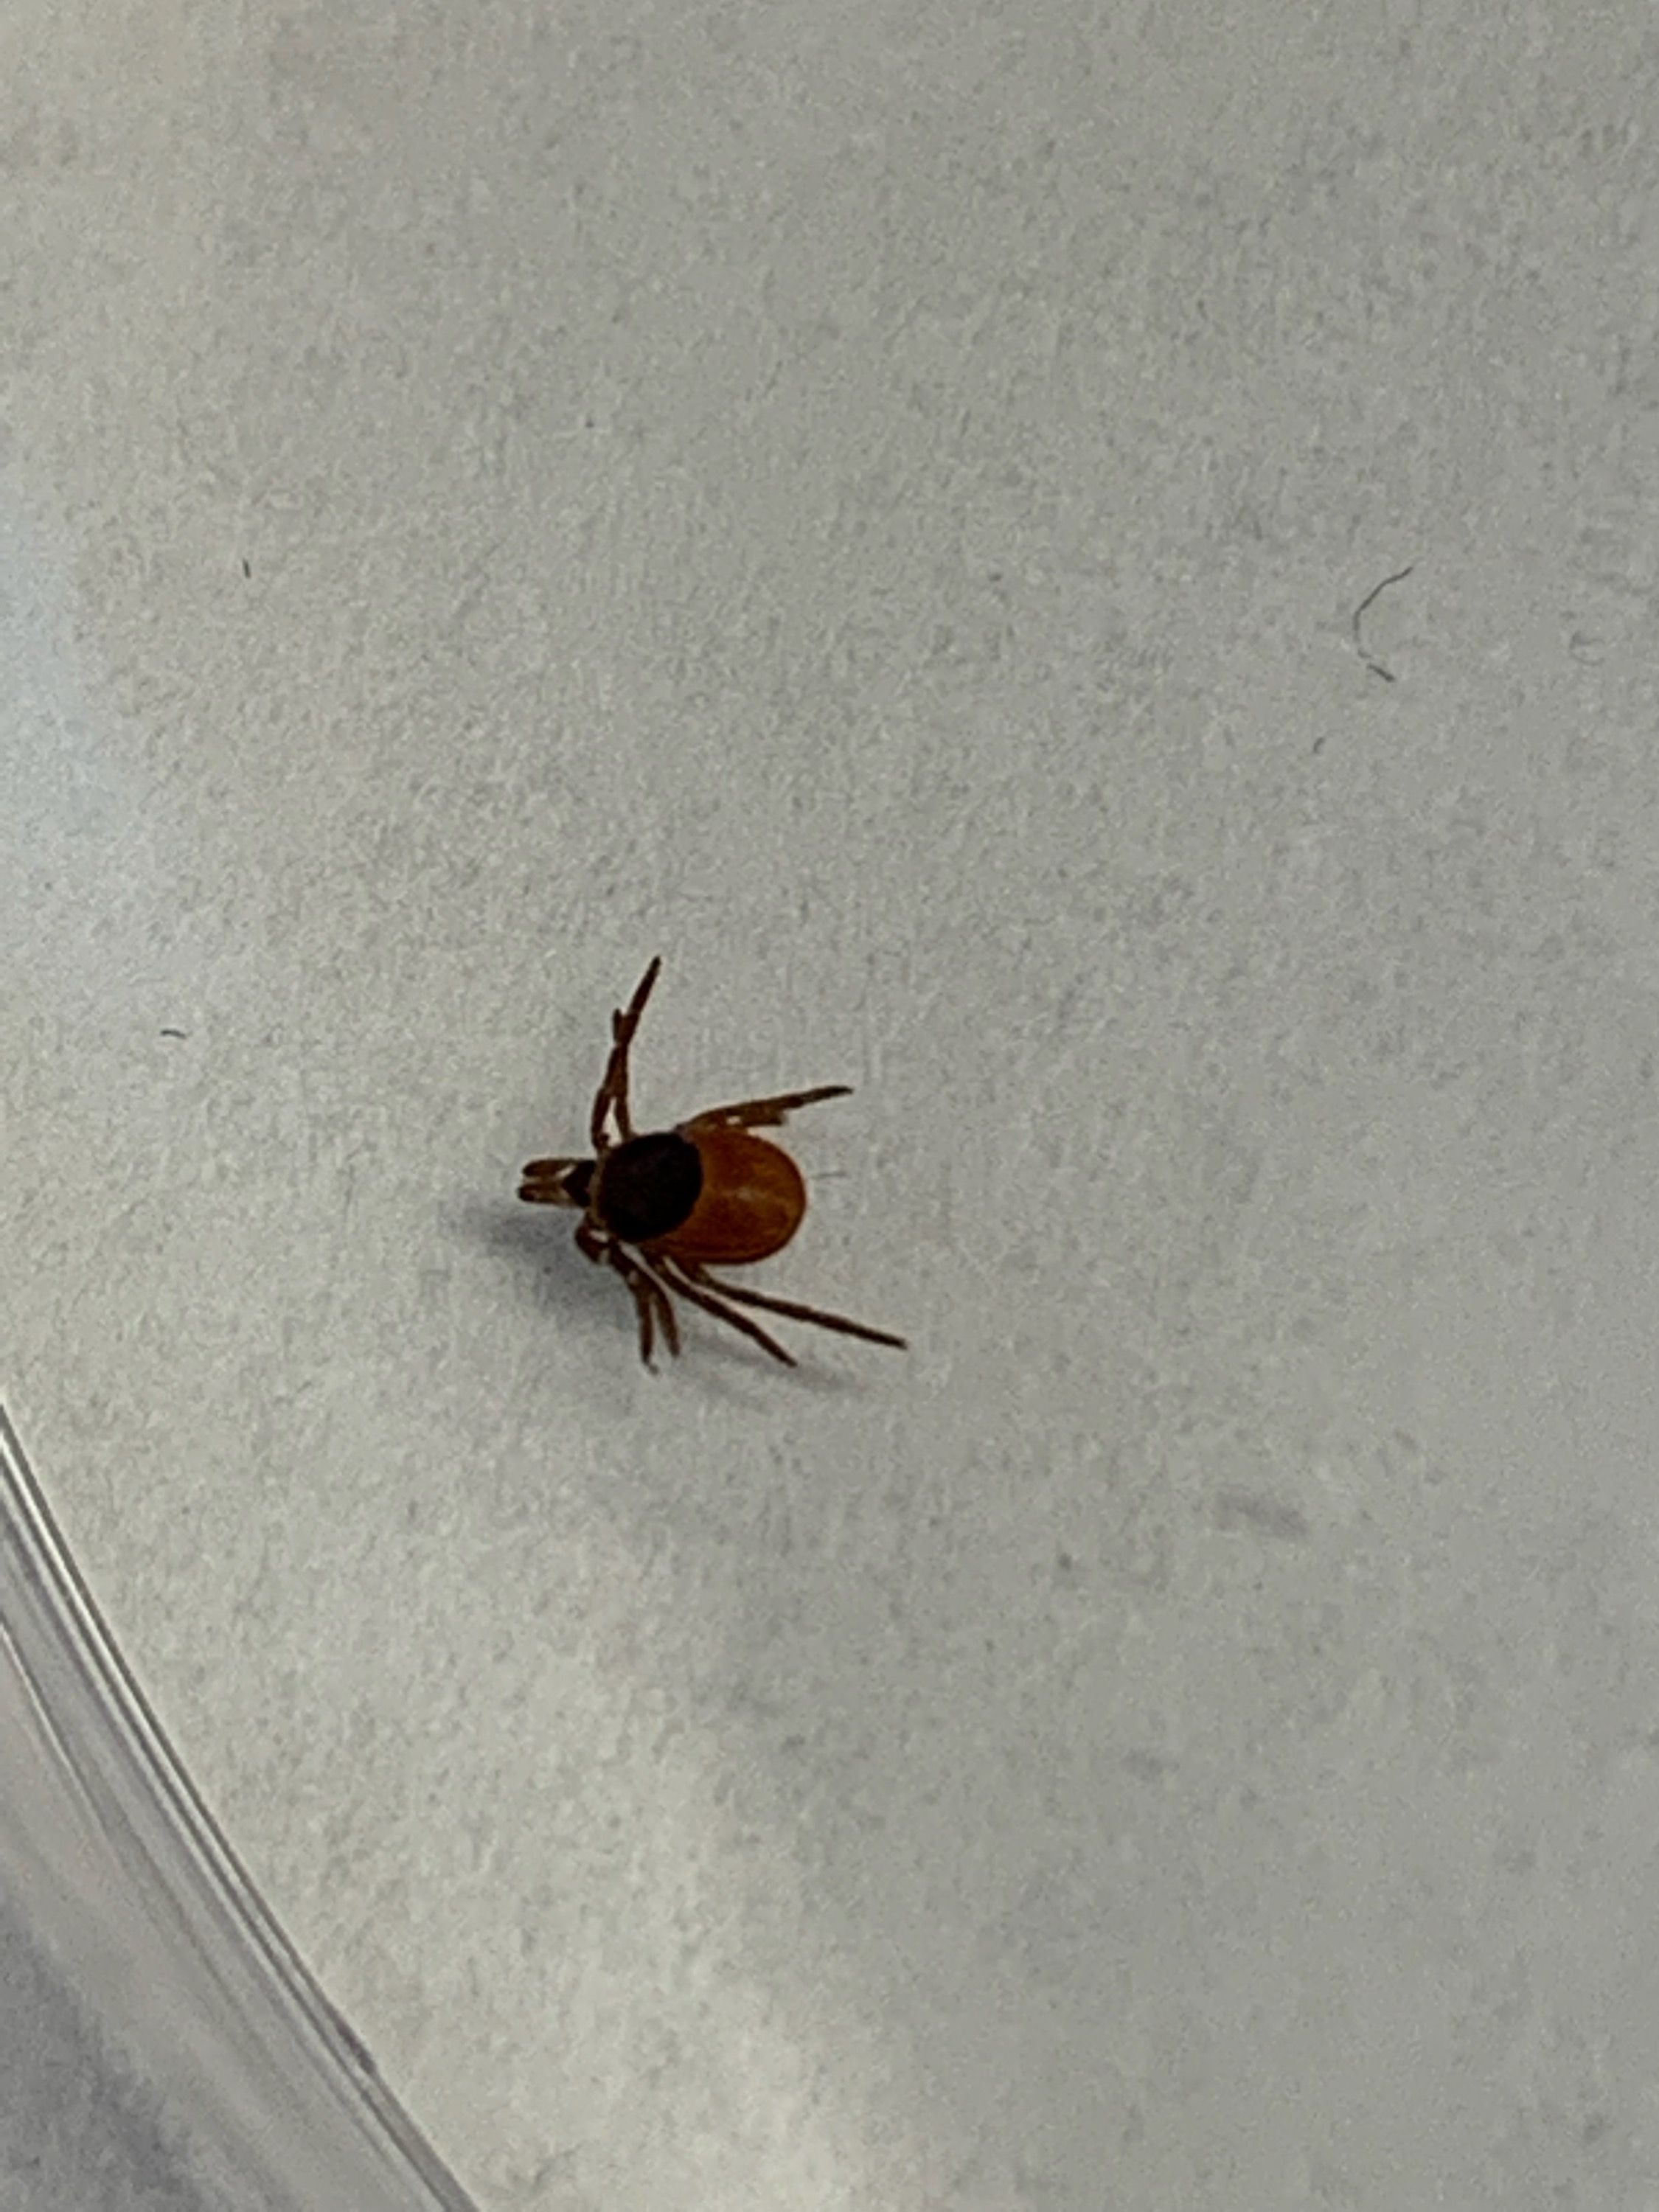unlabelled_tick: (470, 959, 945, 1388)
